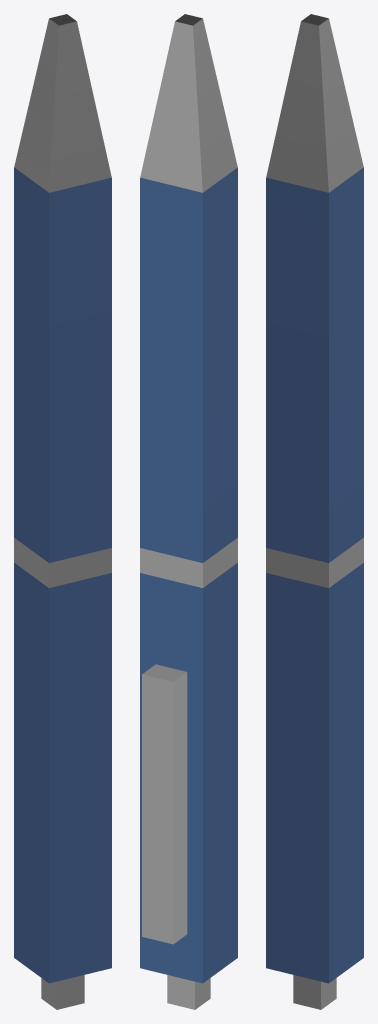
The model's file is Pen2.glb.
3 renders of one model, left to right at view 1: azimuth 30°, elevation 25°; view 2: azimuth 150°, elevation 25°; view 3: azimuth 330°, elevation 25°, orthographic.
Parts seen in each view (by area): view 1: SO_Pen_02; view 2: SO_Pen_02; view 3: SO_Pen_02.
Boxes of the visible parts, x1,y1,x2,y2 form: SO_Pen_02: [14, 14, 111, 1009]; SO_Pen_02: [140, 14, 237, 1009]; SO_Pen_02: [266, 14, 363, 1009].
Bounding box in the file's own units: 0.0321 × 0.4792 × 0.0431.
Materials: 1 (1 with a texture image).
